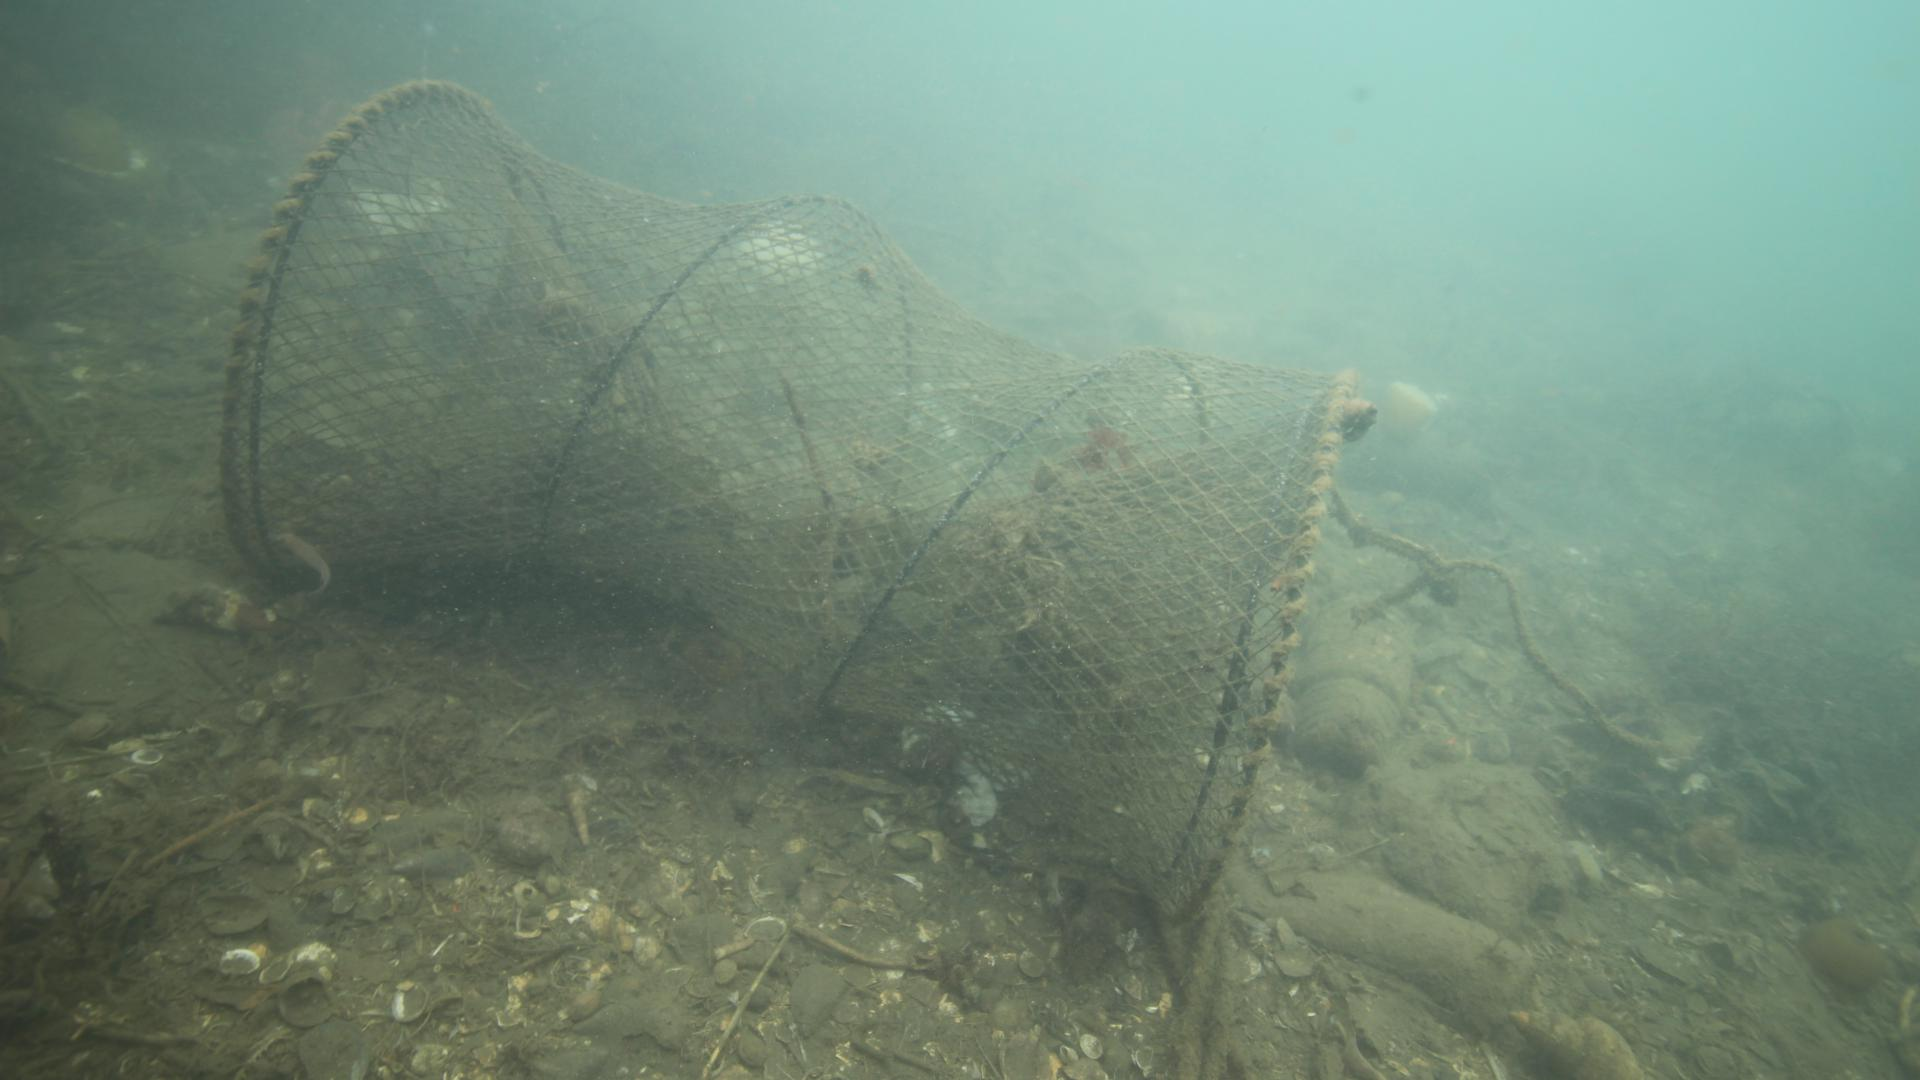rope: (1340, 506, 1664, 742)
spring fish trap: (225, 76, 1349, 924)
